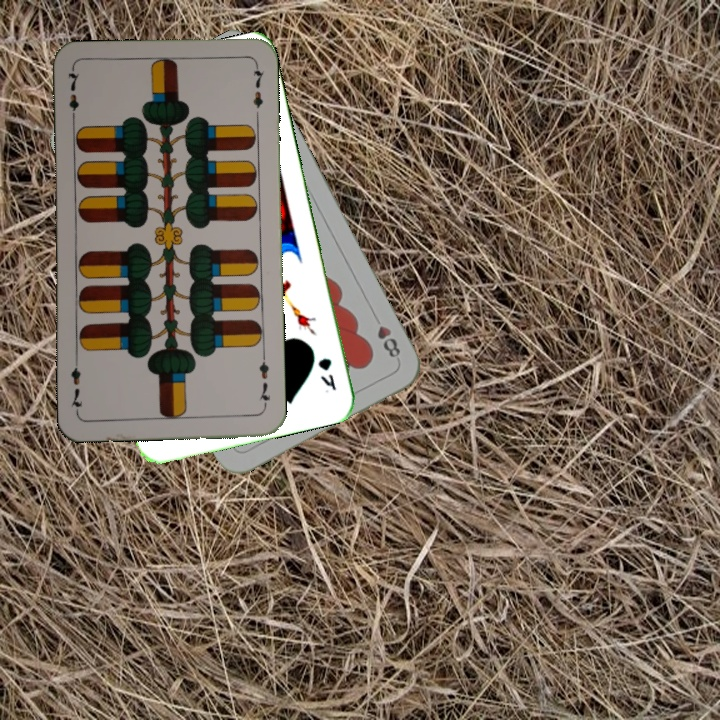E7: (254, 352, 273, 411), (64, 66, 82, 125)
GK: (313, 354, 339, 393)
H8: (368, 309, 403, 361)
